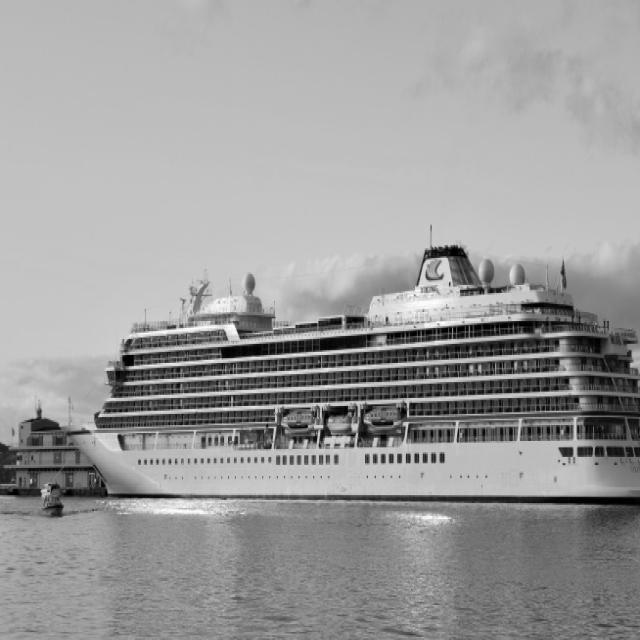cruises: (61, 239, 640, 515)
